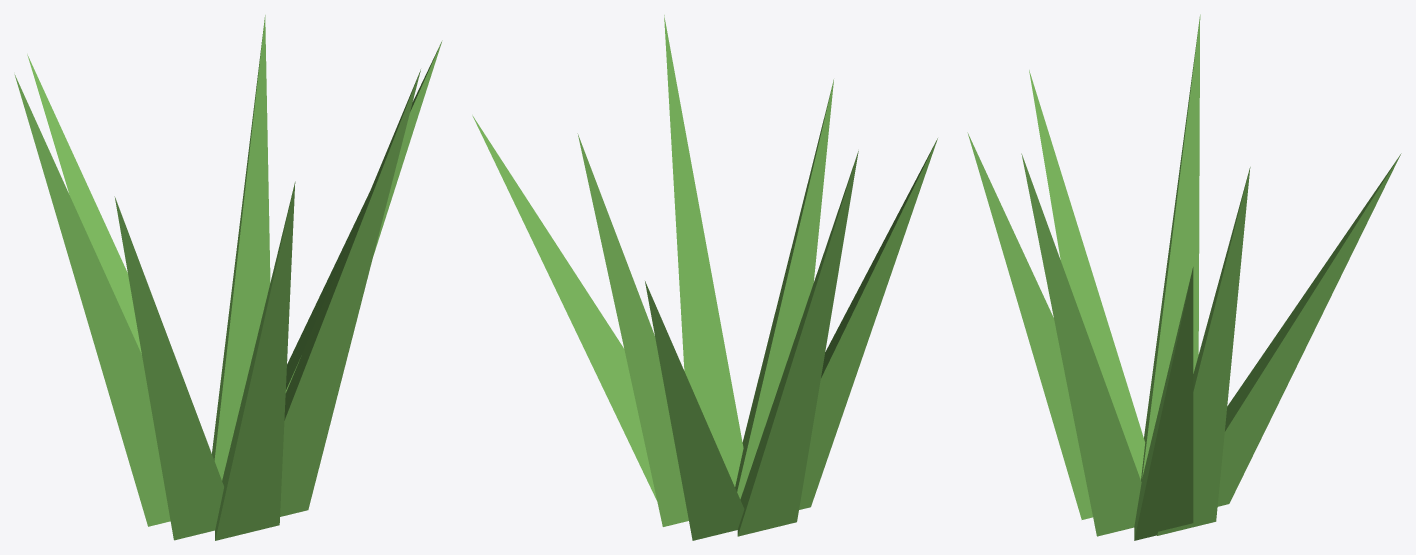
The model's file is GrassTuft.fbx.
The picture shows the model from 3 angles, left to right: view 1: azimuth 30°, elevation 25°; view 2: azimuth 150°, elevation 25°; view 3: azimuth 270°, elevation 25°; orthographic projection. The views are drawn at different scales.
Parts seen in each view (by area): view 1: GrassTuft_Blades; view 2: GrassTuft_Blades; view 3: GrassTuft_Blades.
Boxes of the visible parts, x1,y1,x2,y2 form: GrassTuft_Blades: (14, 15, 442, 540); GrassTuft_Blades: (472, 15, 937, 540); GrassTuft_Blades: (967, 14, 1401, 540).
Bounding box in the file's own units: 2.51 × 2.56 × 2.42.
